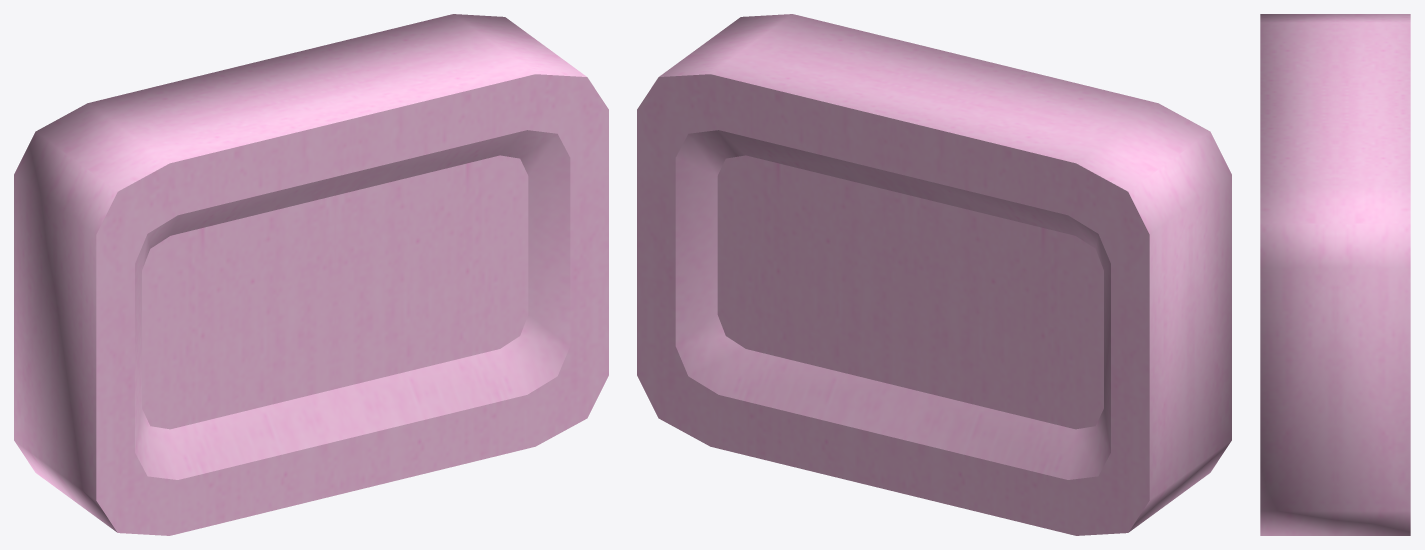
Rendered from SoapBar.fbx.
3 views of the same model, side by side, from view 1: azimuth 30°, elevation 25°; view 2: azimuth 150°, elevation 25°; view 3: azimuth 270°, elevation 25° (orthographic). The views are drawn at different scales.
Visible parts, largest first — view 1: Cube; view 2: Cube; view 3: Cube.
Boxes of the visible parts, x1=… form: Cube: x1=14, y1=14, x2=608, y2=535; Cube: x1=637, y1=14, x2=1231, y2=535; Cube: x1=1260, y1=14, x2=1410, y2=535.
Bounding box in the file's own units: 5.76 × 4 × 1.6.
